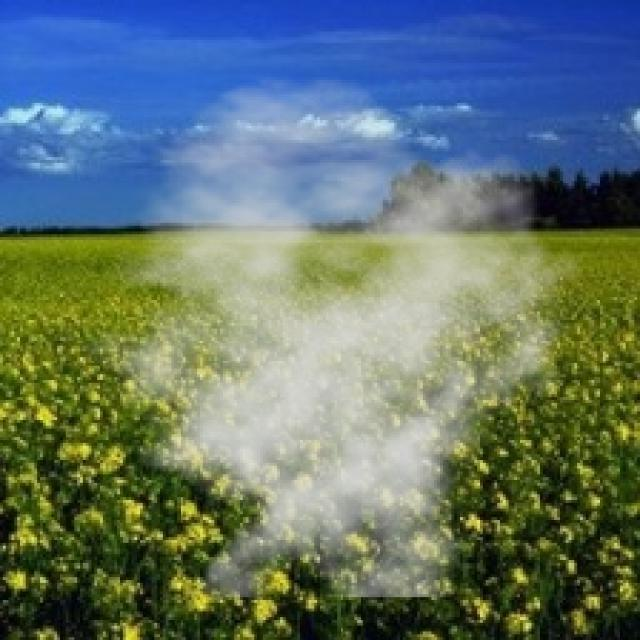Smoke: (57, 74, 586, 597)
